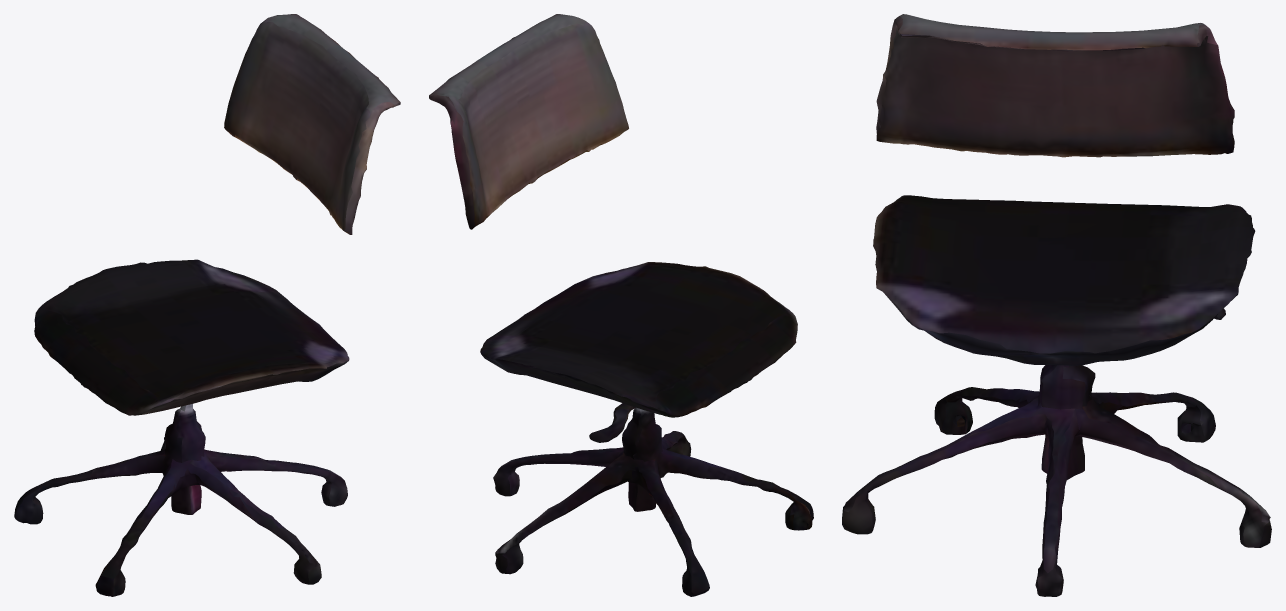
3 views of the same model, side by side, from view 1: azimuth 30°, elevation 25°; view 2: azimuth 150°, elevation 25°; view 3: azimuth 270°, elevation 25° (orthographic). The views are drawn at different scales.
Parts seen in each view (by area): view 1: world; view 2: world; view 3: world.
Part boxes in pixels (x1,y1,x2,y2): world: [14, 14, 400, 596]; world: [429, 14, 813, 596]; world: [842, 14, 1271, 596].
Size of the model in its own units: 0.3019 by 0.4295 by 0.2933.
Materials: 1 (1 with a texture image).
